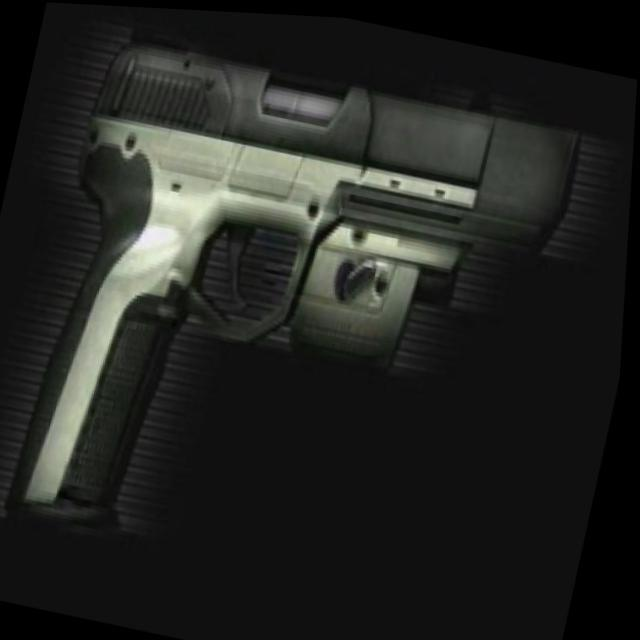weapon: (0, 13, 639, 636)
